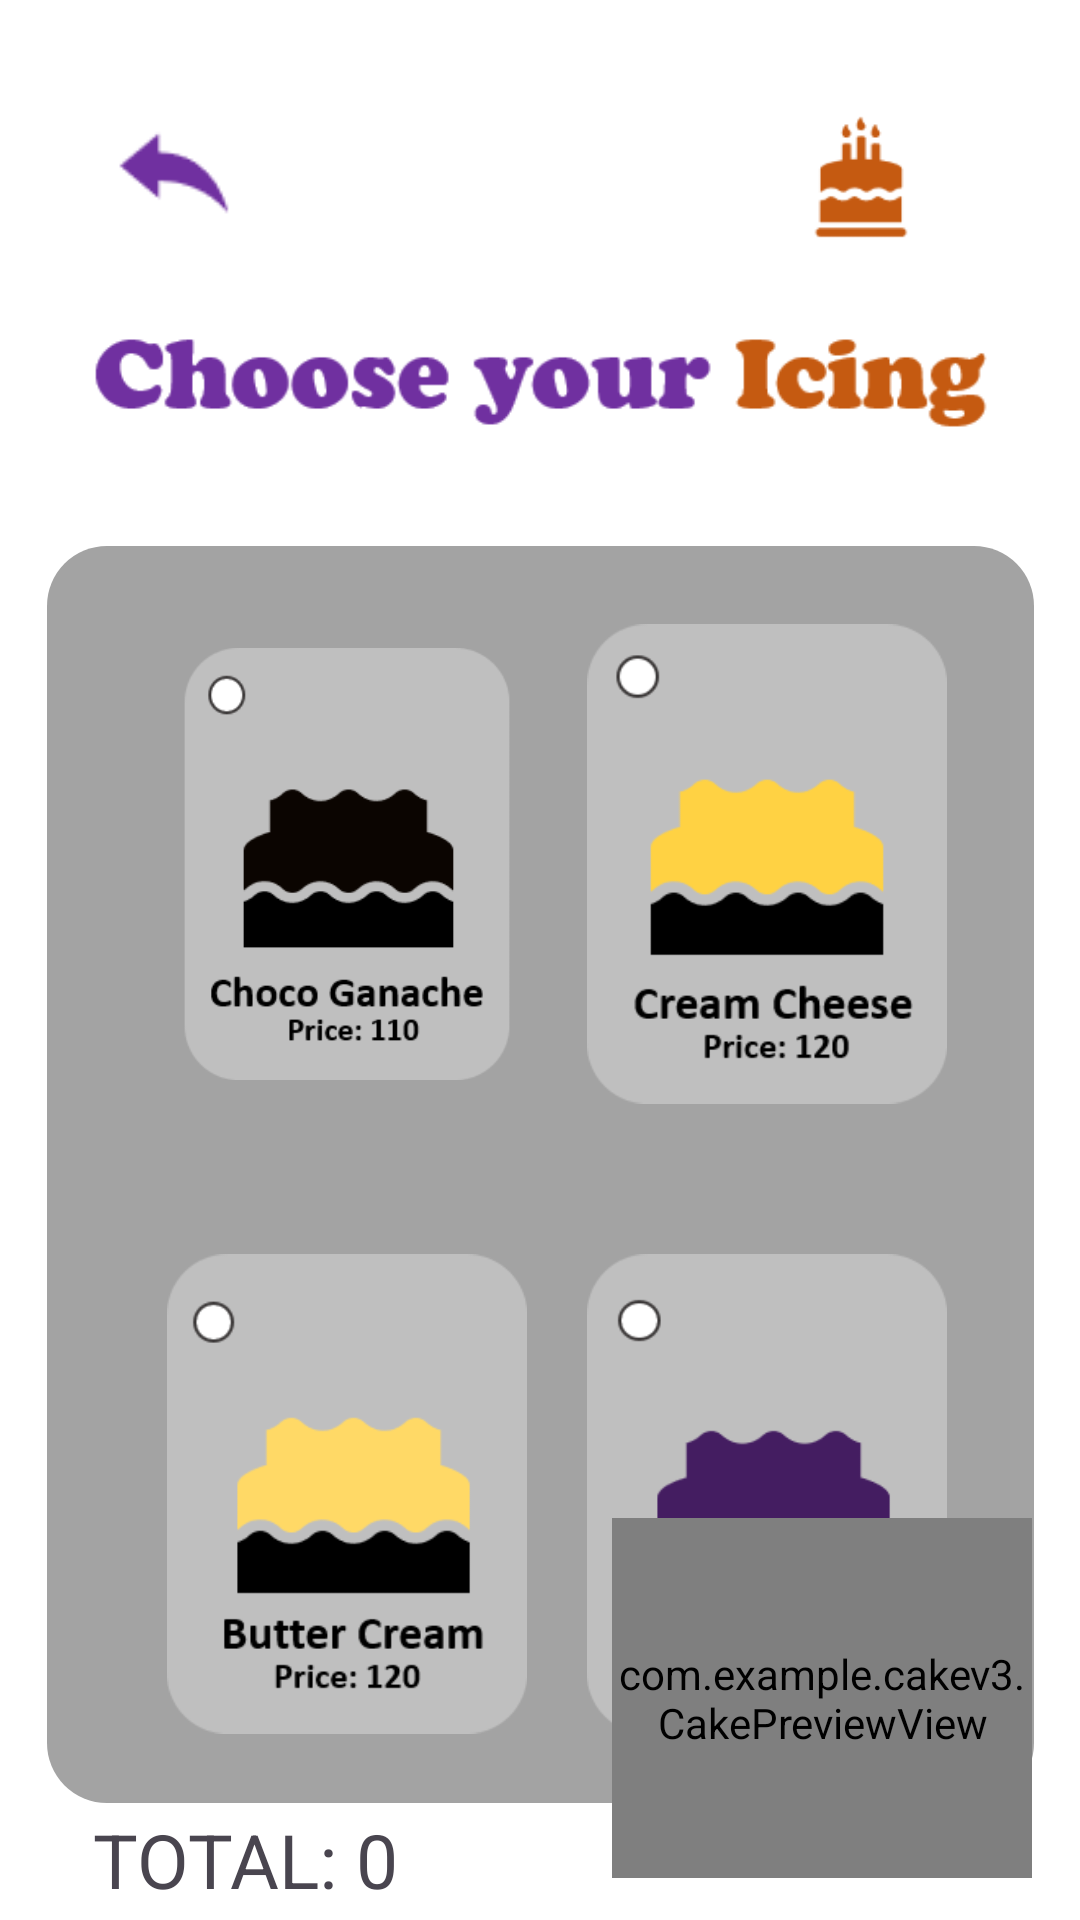

Icons on this 1080 x 1920 Android screen, each with the point to tap as point (x, y):
back: point (174, 173)
